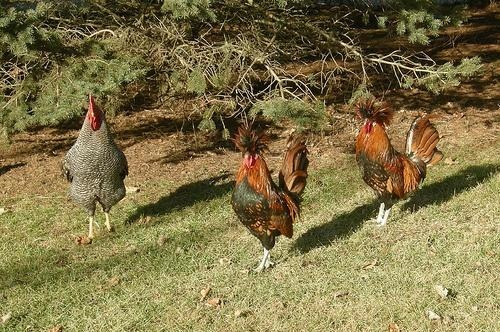bird: (227, 122, 314, 274), (352, 97, 447, 228), (62, 91, 132, 240)
